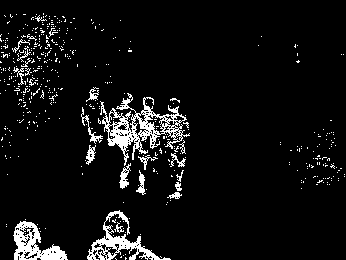person: (83, 209, 172, 260), (159, 98, 190, 202), (131, 94, 162, 196), (108, 91, 138, 191), (80, 87, 109, 166)
